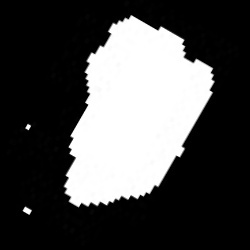pinhole: (25, 122, 30, 130), (24, 207, 31, 212)
spot: (66, 16, 214, 206)
